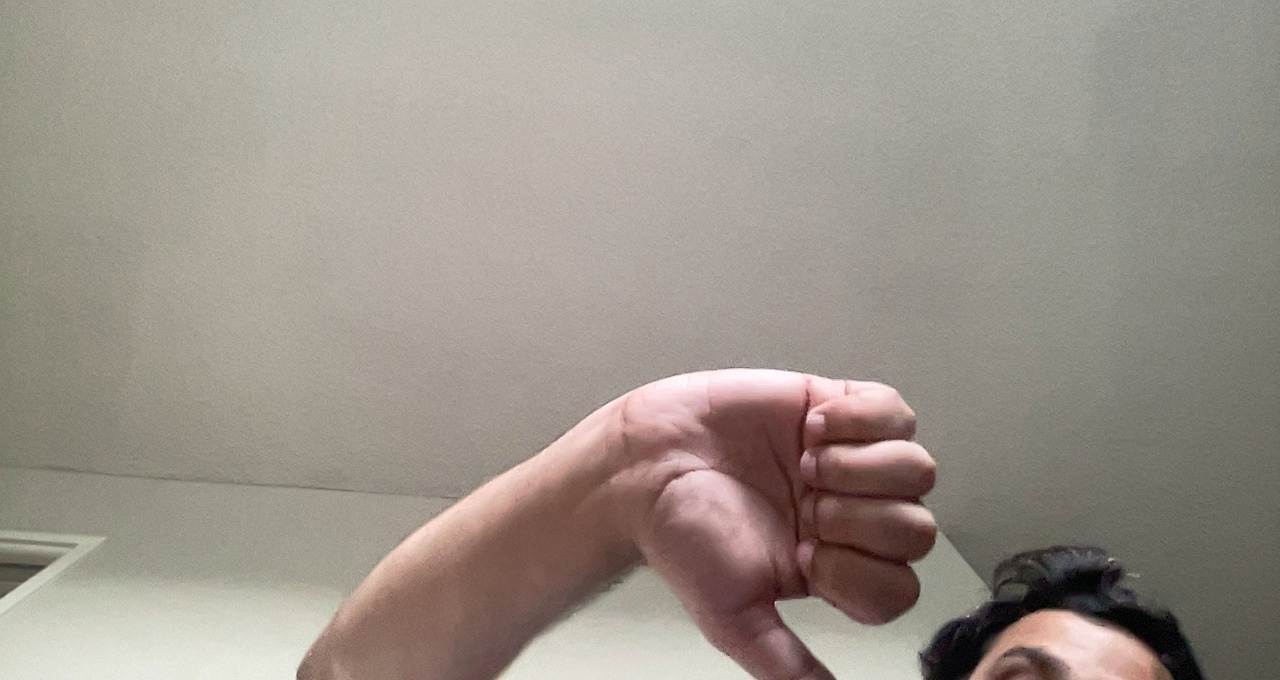thumbsdown: (591, 332, 947, 670)
